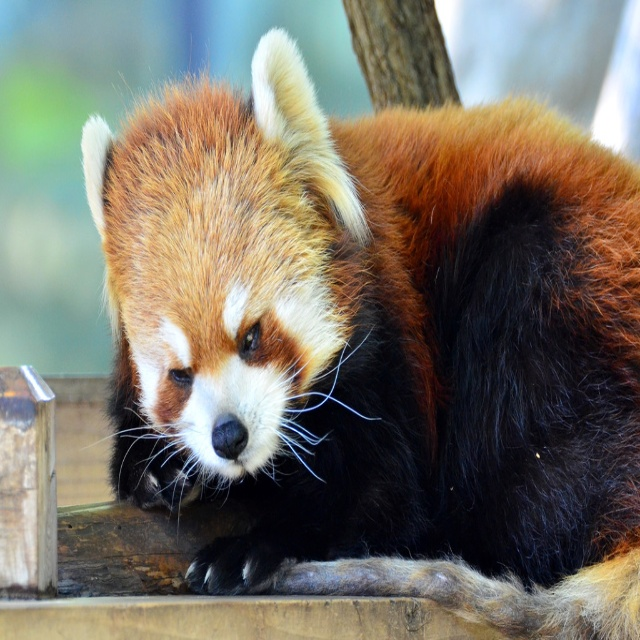Red panda: (78, 22, 640, 639)
